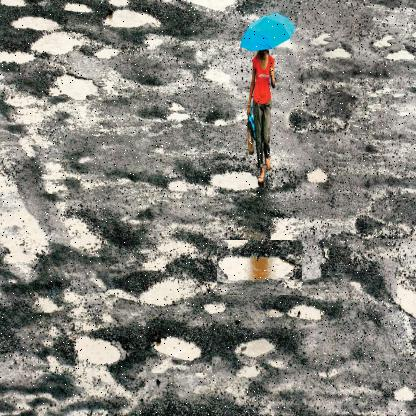pothole_water: (216, 240, 302, 296), (145, 314, 212, 374), (61, 324, 132, 370)
